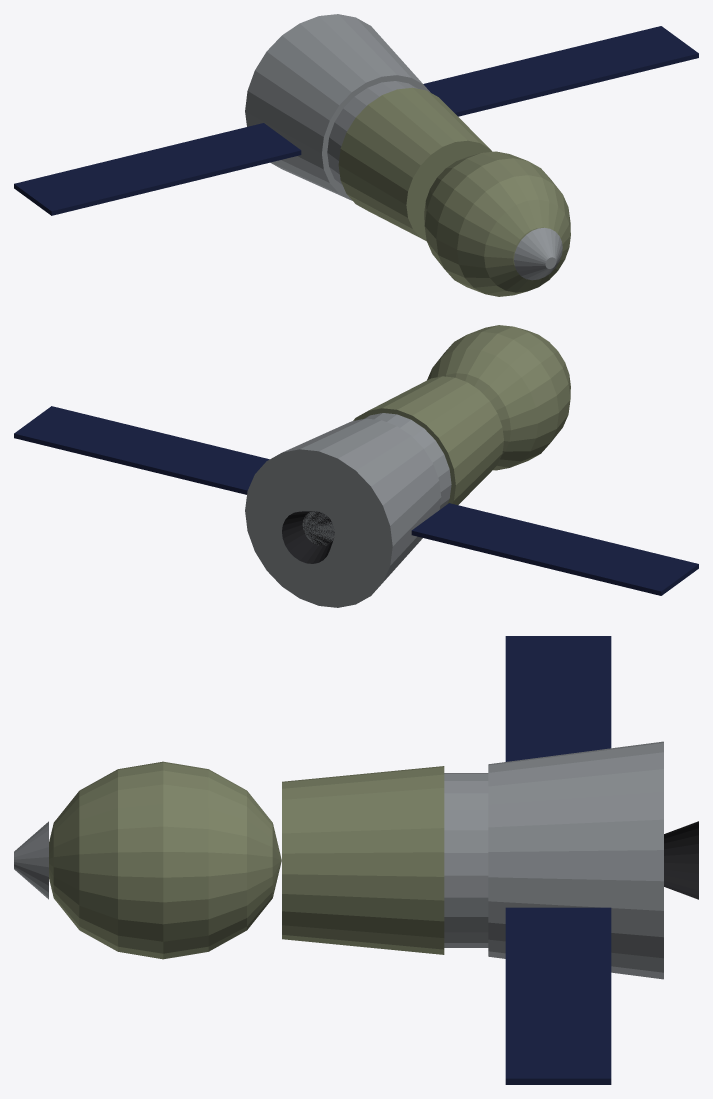
The model's file is soyuz.glb.
3 views of the same model, one above another, from view 1: azimuth 30°, elevation 25°; view 2: azimuth 150°, elevation 25°; view 3: azimuth 270°, elevation 25° (orthographic). The views are drawn at different scales.
Size of the model in its own units: 11.92 by 2.72 by 7.8.
